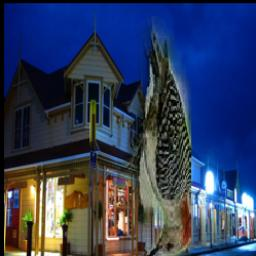Woodpecker: (117, 17, 191, 256)
